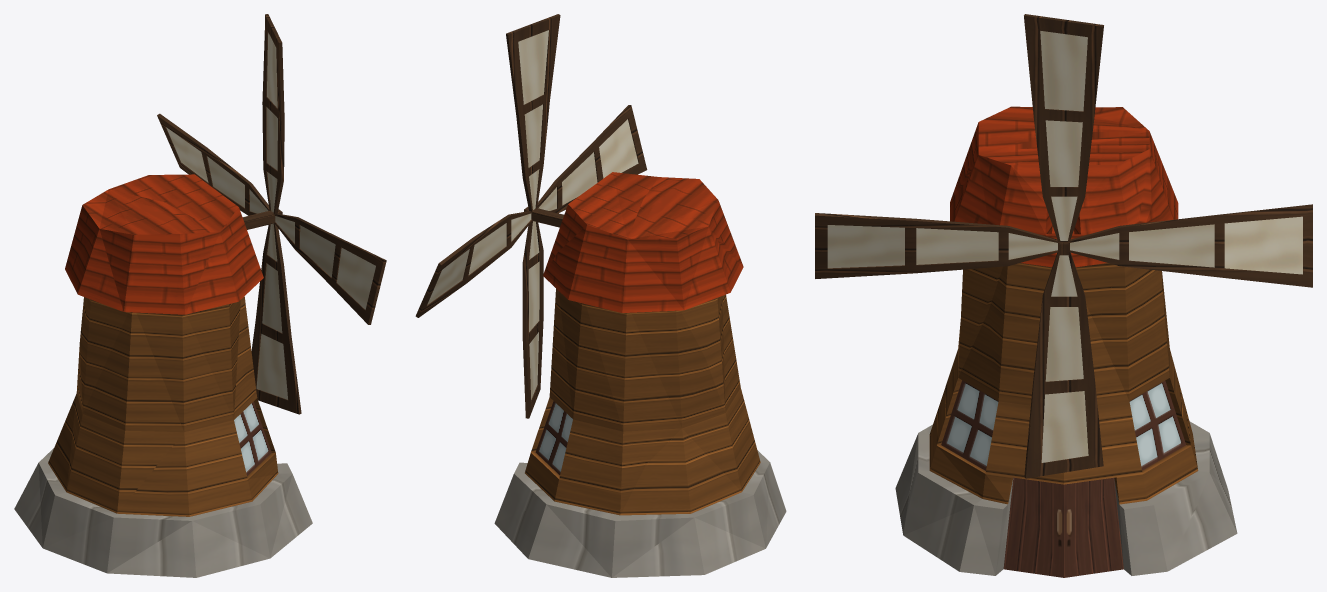
Rendered from co_WindMill.fbx.
The picture shows the model from 3 angles, left to right: view 1: azimuth 30°, elevation 25°; view 2: azimuth 150°, elevation 25°; view 3: azimuth 270°, elevation 25°; orthographic projection. The views are drawn at different scales.
Parts seen in each view (by area): view 1: Windmill1, Windmill_rotatingPart; view 2: Windmill1, Windmill_rotatingPart; view 3: Windmill1, Windmill_rotatingPart.
Part boxes in pixels (x1,y1,x2,y2): Windmill1: (14,174,312,577); Windmill_rotatingPart: (157,14,386,414); Windmill1: (494,172,786,577); Windmill_rotatingPart: (415,14,647,418); Windmill1: (895,106,1237,577); Windmill_rotatingPart: (815,14,1312,478).
Size of the model in its own units: 1984 by 3608 by 2927.
